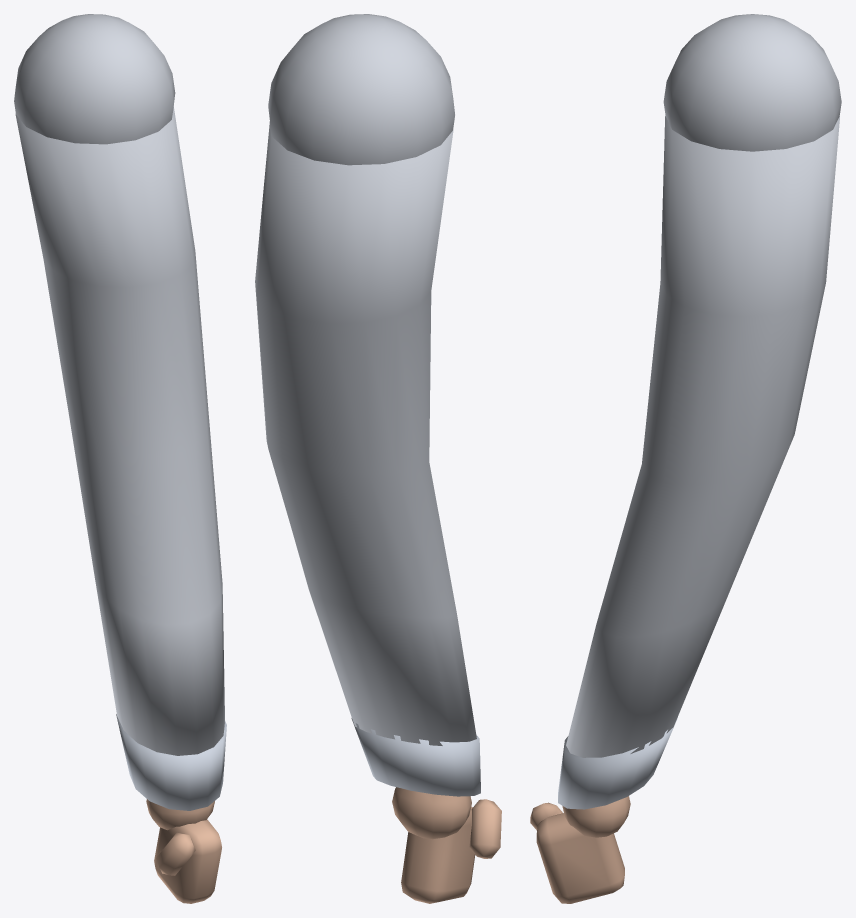
File: coder_arm_l.glb
3 views of the same model, side by side, from view 1: azimuth 30°, elevation 25°; view 2: azimuth 150°, elevation 25°; view 3: azimuth 270°, elevation 25° (orthographic). The views are drawn at different scales.
Parts seen in each view (by area): view 1: CoderPart; view 2: CoderPart; view 3: CoderPart.
Part boxes in pixels (box(x1,y1,x2,y2)): CoderPart: box(14, 14, 226, 903); CoderPart: box(255, 14, 501, 903); CoderPart: box(530, 14, 841, 903).
Bounding box in the file's own units: 0.125 × 0.6157 × 0.1993.
